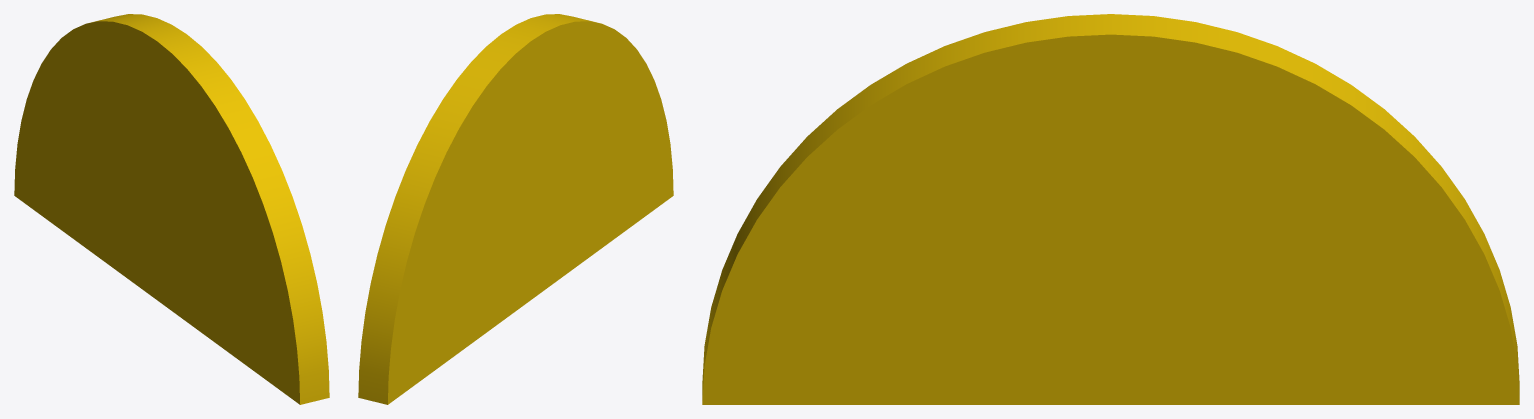
The model's file is sol.fbx.
The picture shows the model from 3 angles, left to right: view 1: azimuth 30°, elevation 25°; view 2: azimuth 150°, elevation 25°; view 3: azimuth 270°, elevation 25°; orthographic projection. The views are drawn at different scales.
Parts seen in each view (by area): view 1: pCylinder1; view 2: pCylinder1; view 3: pCylinder1.
Part boxes in pixels (left/top/right/bottom): pCylinder1: left=14, top=14, right=329, bottom=404; pCylinder1: left=358, top=14, right=673, bottom=404; pCylinder1: left=702, top=14, right=1519, bottom=404.
Size of the model in its own units: 0.6027 by 5.06 by 10.12.
